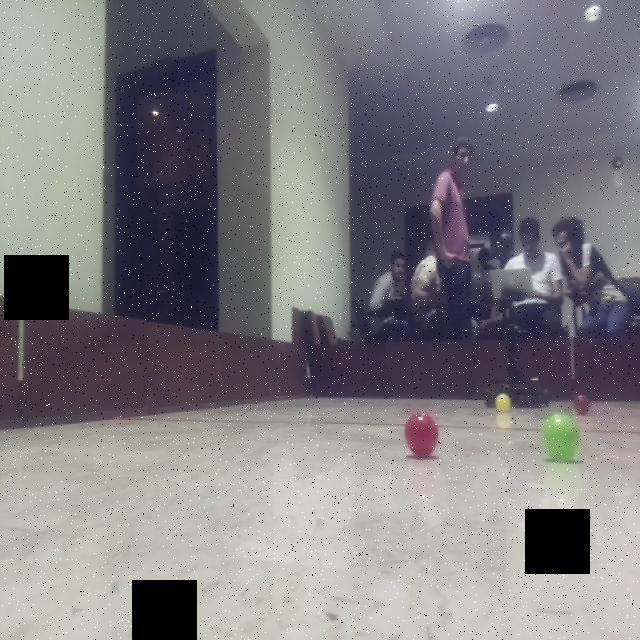ball: (541, 409, 581, 460), (400, 409, 442, 456), (492, 388, 514, 418), (573, 392, 592, 415)
